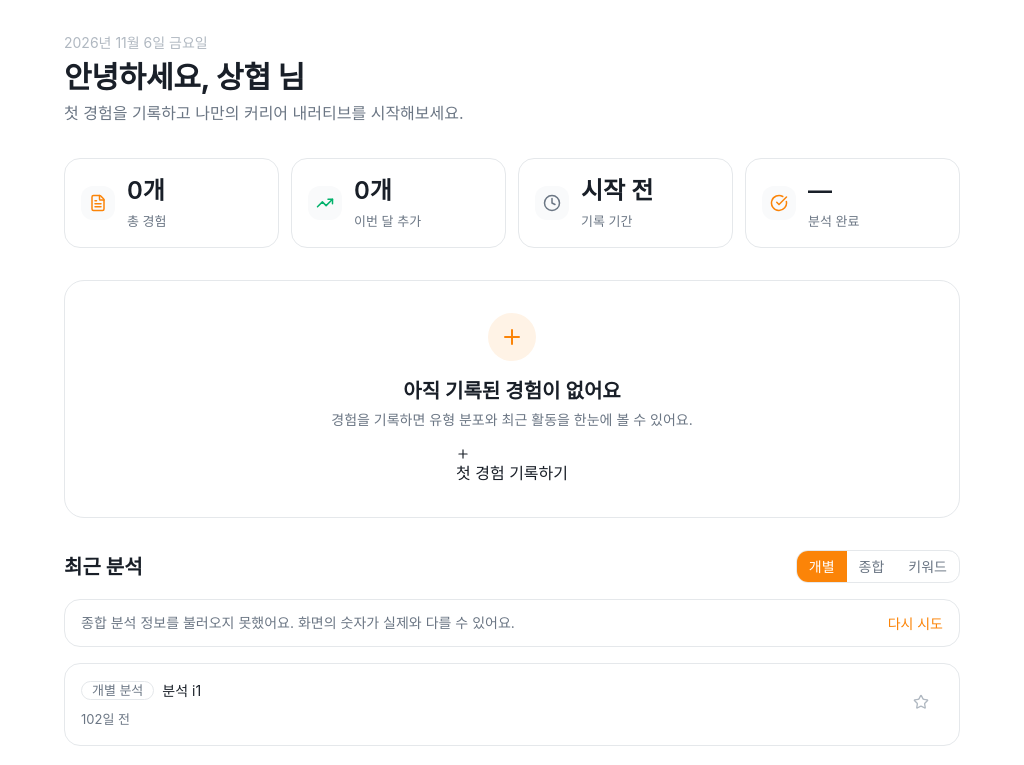
Test: 대시보드 — 분석 요약 부분 실패 안내 (FRT-169) › 다시 시도를 누르면 요약을 다시 불러온다
The image size is (1024, 765).
Click the button "다시 시도" at (915, 623), box [888,614,943,633]
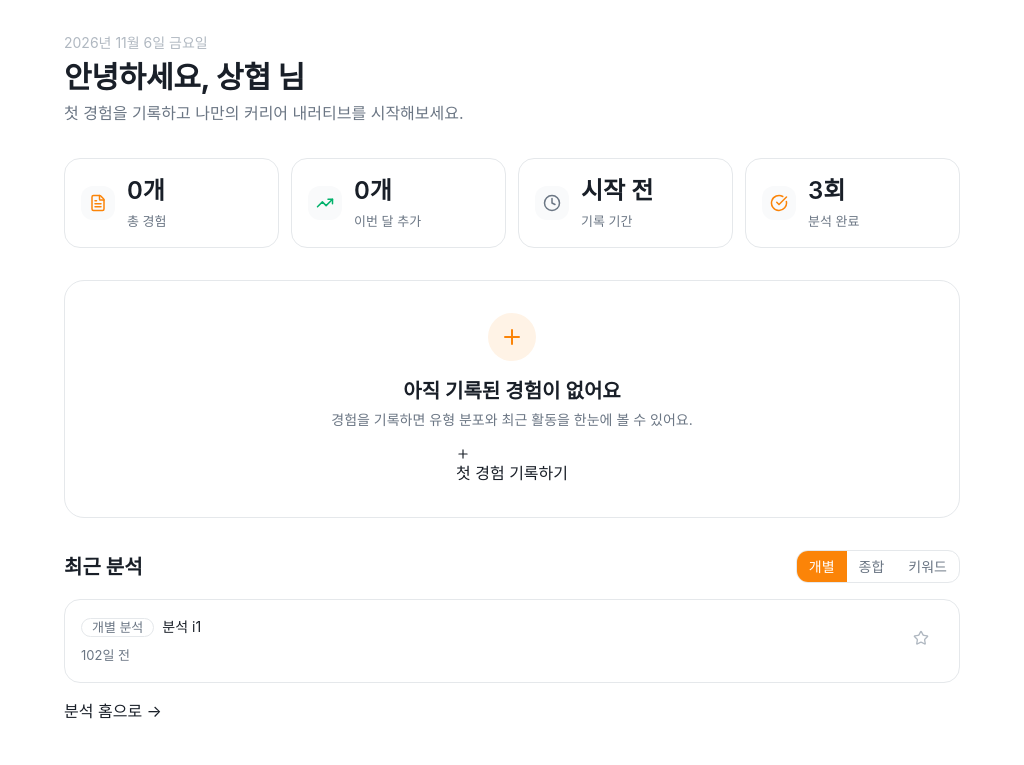
Now the message "종합 분석 정보를 불러오지 못했어요. 화면의 숫자가 실제와 다를 수 있어요. 다시 시도" is gone
